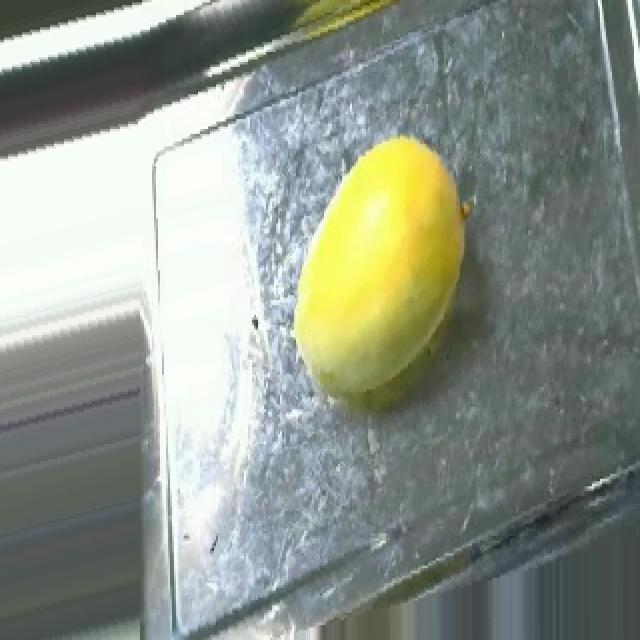fruit: (258, 106, 502, 432)
